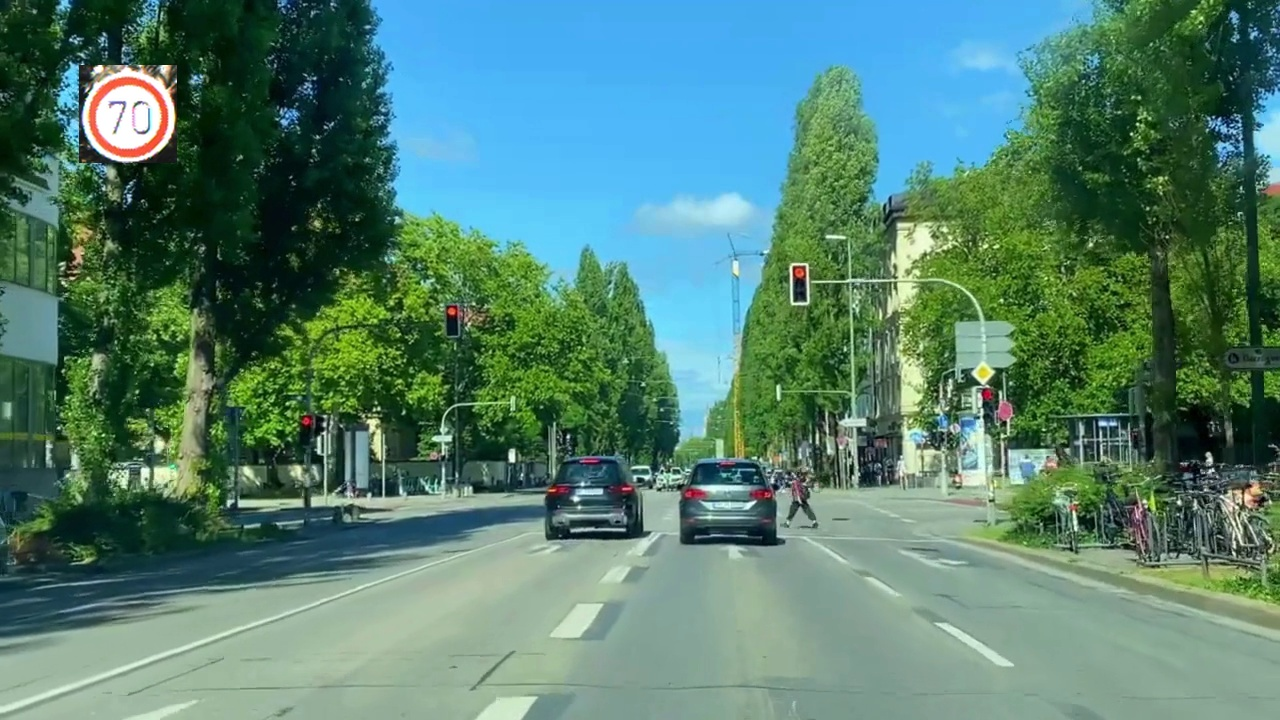Speed 70: (79, 65, 177, 163)
